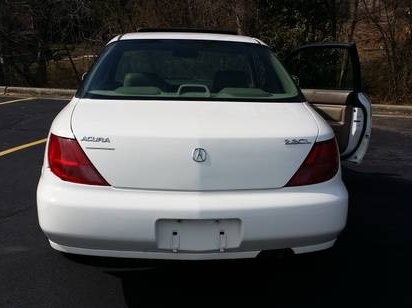acura: (42, 22, 372, 265)
